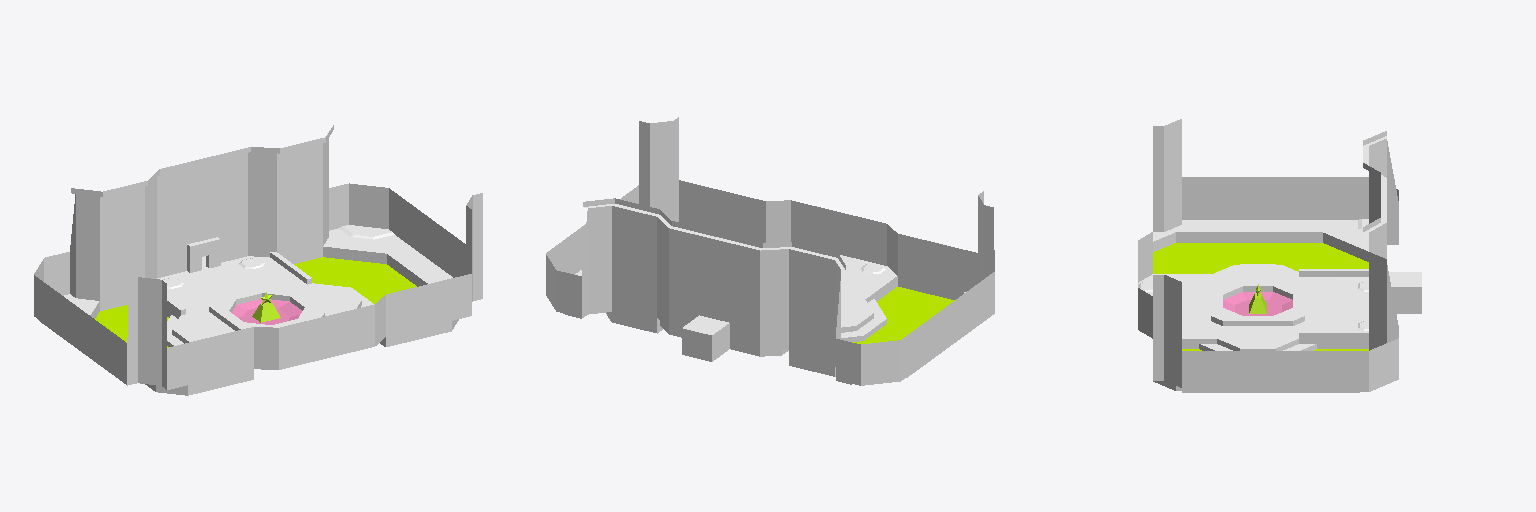
The model's file is Castle Courtyard Area 1.obj.
3 views of the same model, side by side, from view 1: azimuth 30°, elevation 25°; view 2: azimuth 150°, elevation 25°; view 3: azimuth 270°, elevation 25° (orthographic).
Bounding box in the file's own units: 14334 × 4708 × 9930.